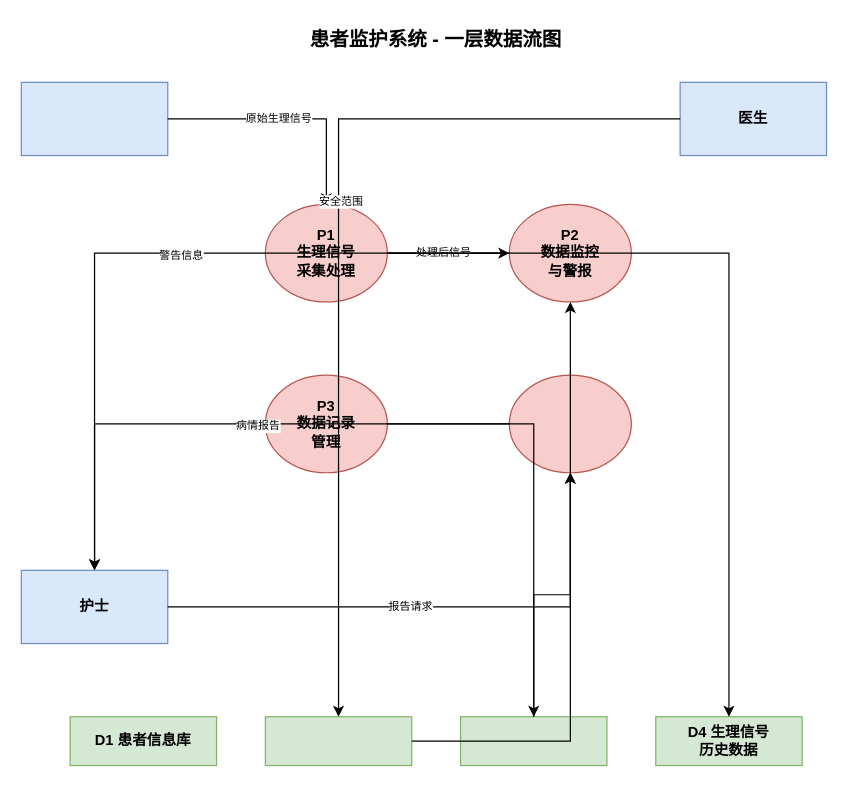
The diagram is 848 pixels wide and 787 high, and some of its shapes have lost their labels. Each missing label, with the box of its shape:
D2 安全范围设定: (264, 716, 412, 766)
D3 患者日志: (459, 716, 607, 766)
P4 报告生成: (508, 374, 631, 473)
患者/监护设备: (20, 81, 168, 156)
